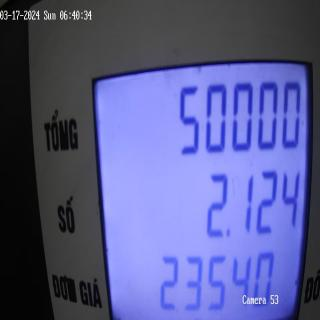screen: (88, 45, 316, 320)
